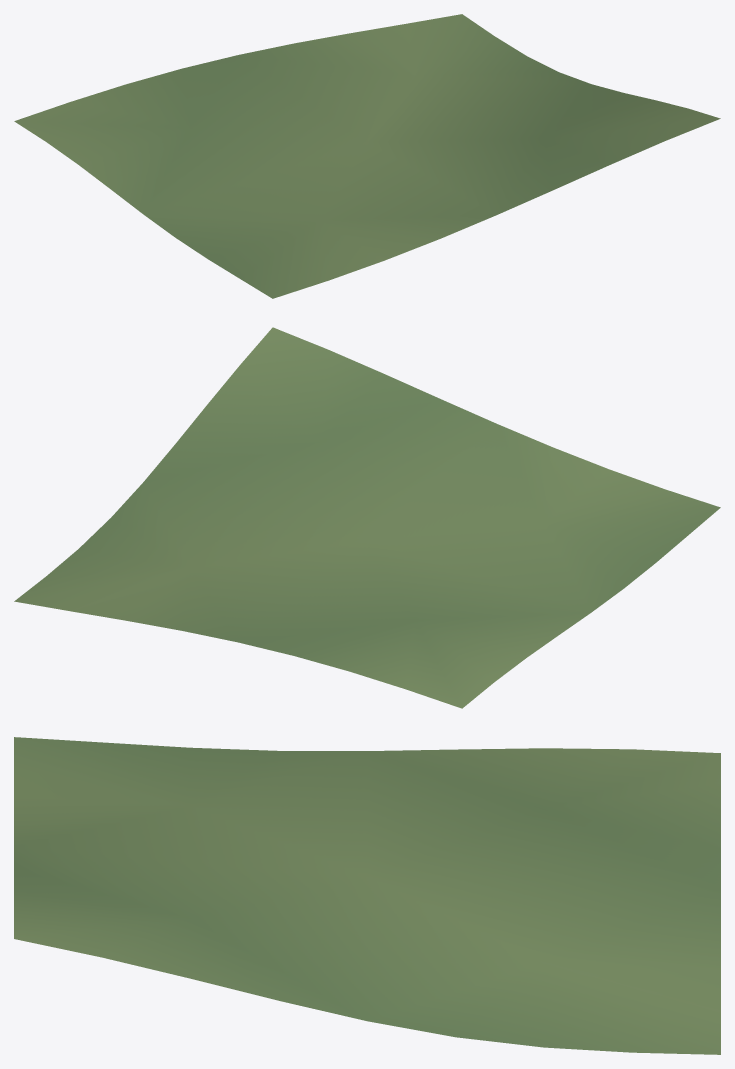
The model's file is Terrain-5-0-4.glb.
The picture shows the model from 3 angles, top to bottom: view 1: azimuth 30°, elevation 25°; view 2: azimuth 150°, elevation 25°; view 3: azimuth 270°, elevation 25°; orthographic projection. The views are drawn at different scales.
Parts seen in each view (by area): view 1: Terrain-5-0-4; view 2: Terrain-5-0-4; view 3: Terrain-5-0-4.
Part boxes in pixels (box(x1,y1,x2,y2)): Terrain-5-0-4: box(14, 14, 720, 298); Terrain-5-0-4: box(14, 327, 720, 708); Terrain-5-0-4: box(14, 737, 720, 1054).
Size of the model in its own units: 6 by 1.09 by 6.
